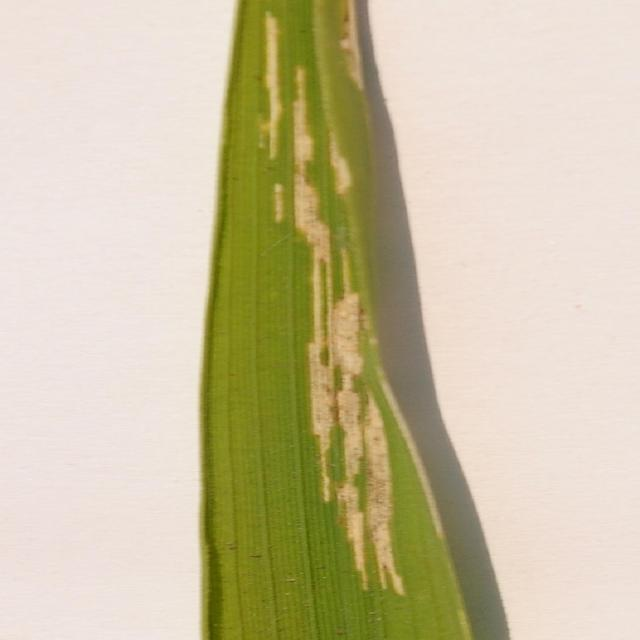leaf blight: (252, 1, 425, 588)
